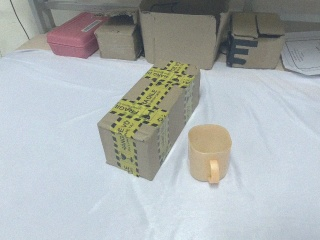box: (98, 61, 200, 180), (140, 1, 229, 69), (224, 12, 285, 69), (94, 15, 143, 61)
cup: (187, 124, 232, 185)
